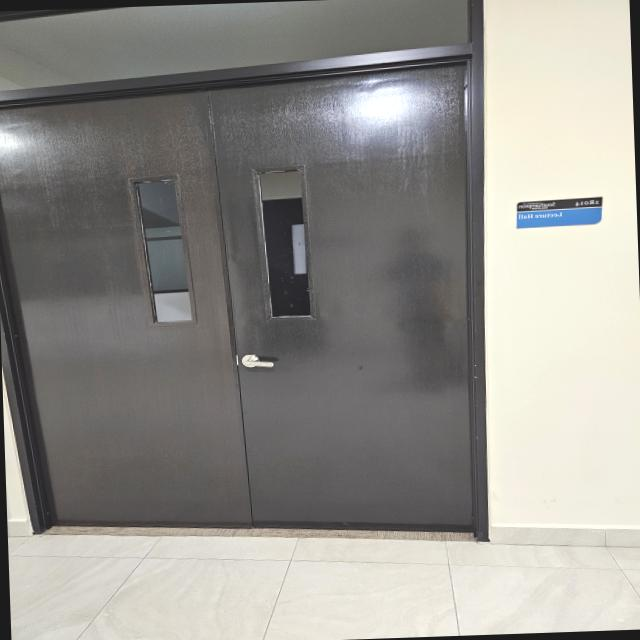door: (5, 53, 492, 544)
